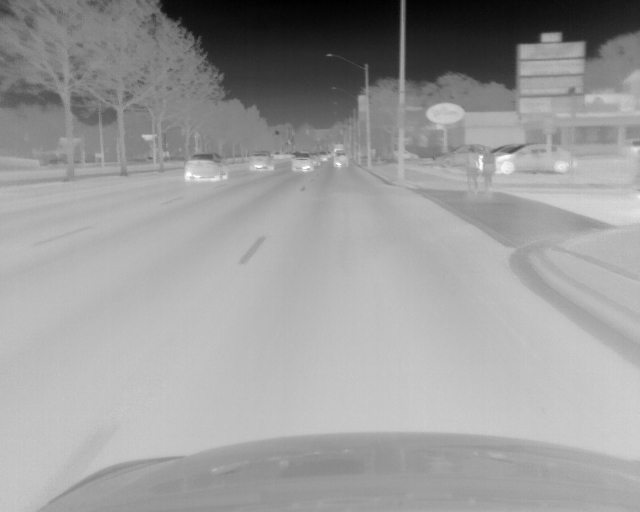car: (476, 143, 575, 176), (182, 152, 229, 183), (478, 143, 498, 202), (462, 144, 479, 200), (248, 150, 273, 173), (290, 150, 312, 173), (332, 151, 350, 170), (318, 151, 329, 164)
